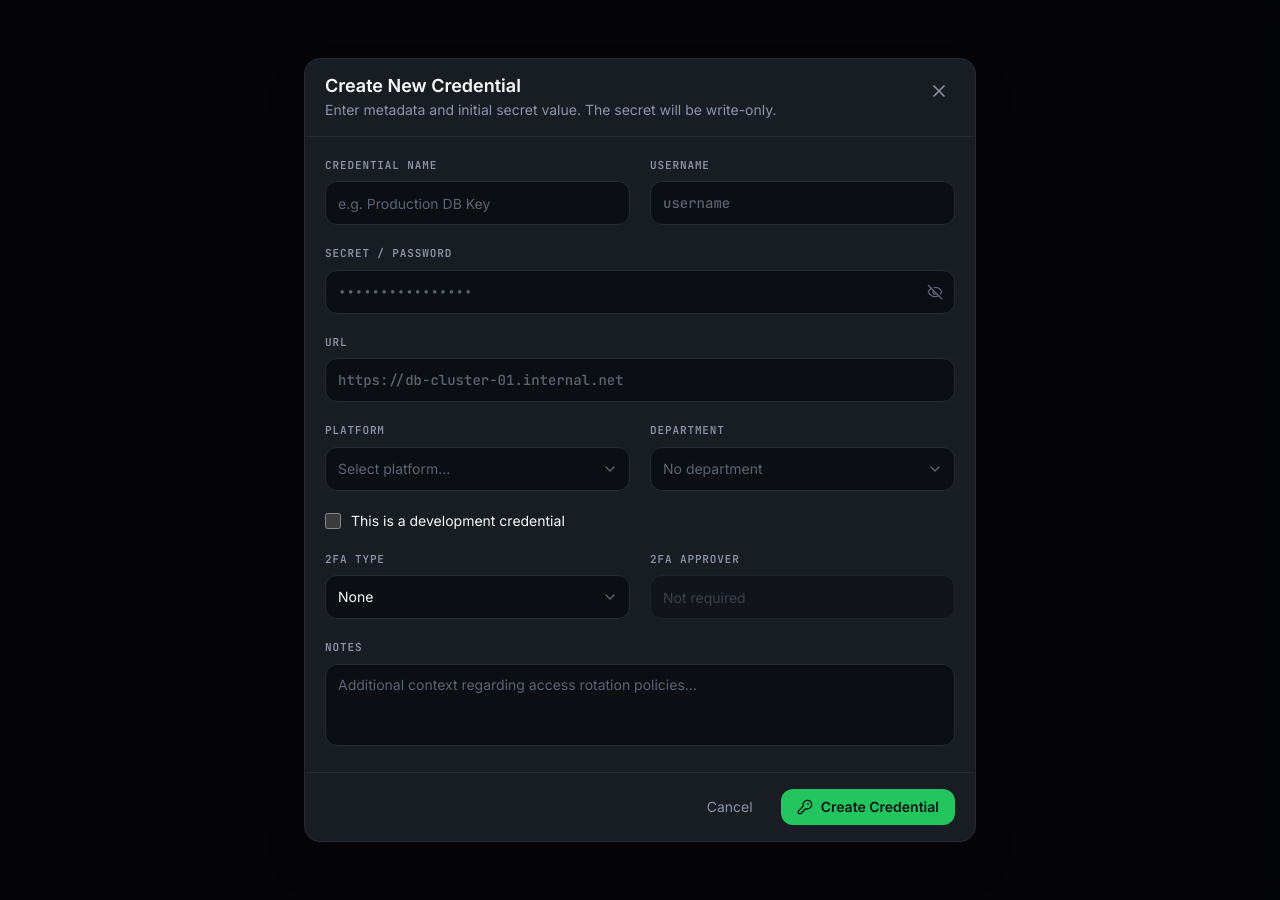
it: CreateCredentialModal › defaults 2FA to None while offering every supported type
The width and height of the screenshot is (1280, 900).
Expected: the field labelled "2FA Approver" is disabled, [650,575,955,619]
Select "Authenticator App (TOTP)" in the dropdown labelled "2FA Type". click: (478,597)
box: [325,575,630,619]
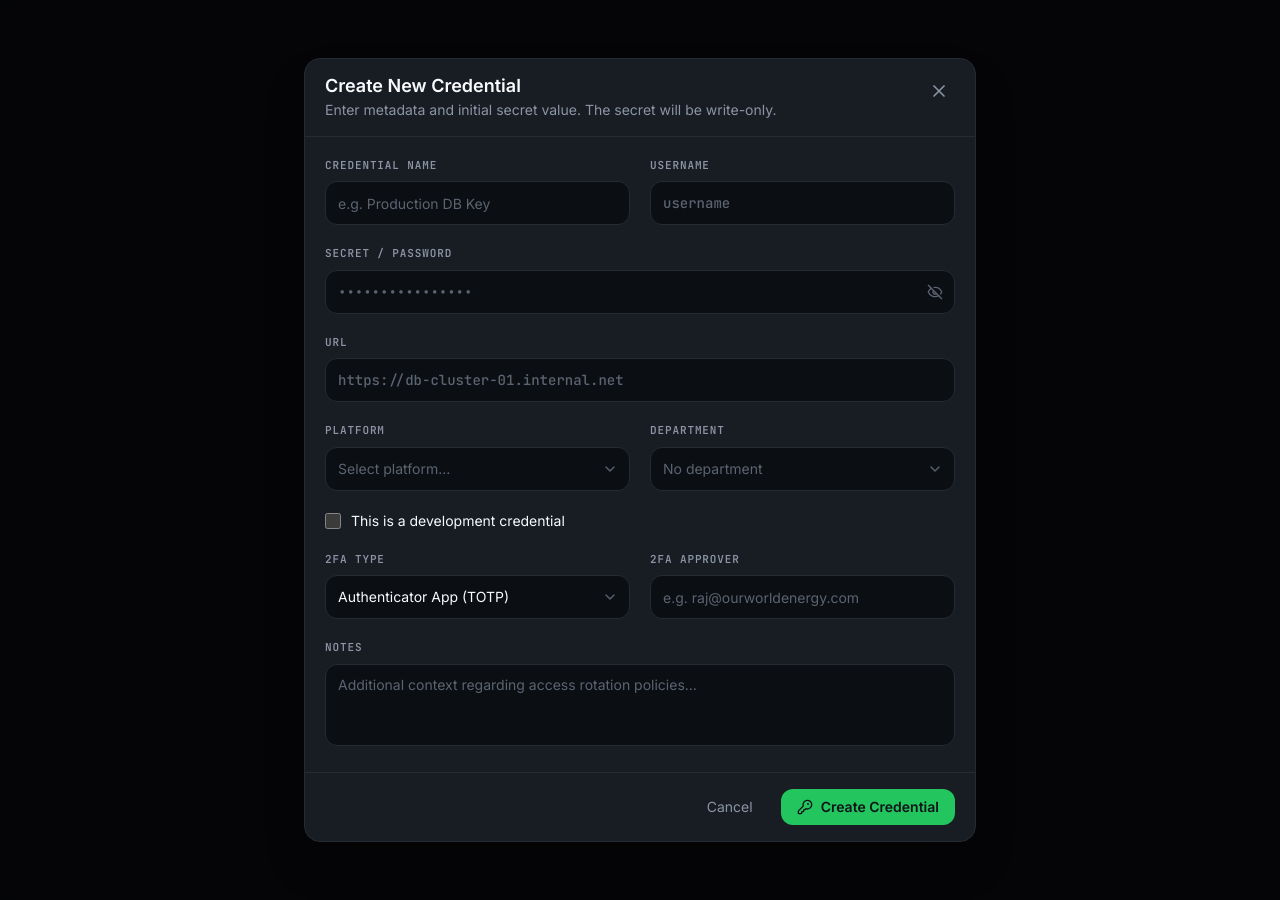
Result: the field labelled "2FA Approver" is enabled at [650,575,955,619]
